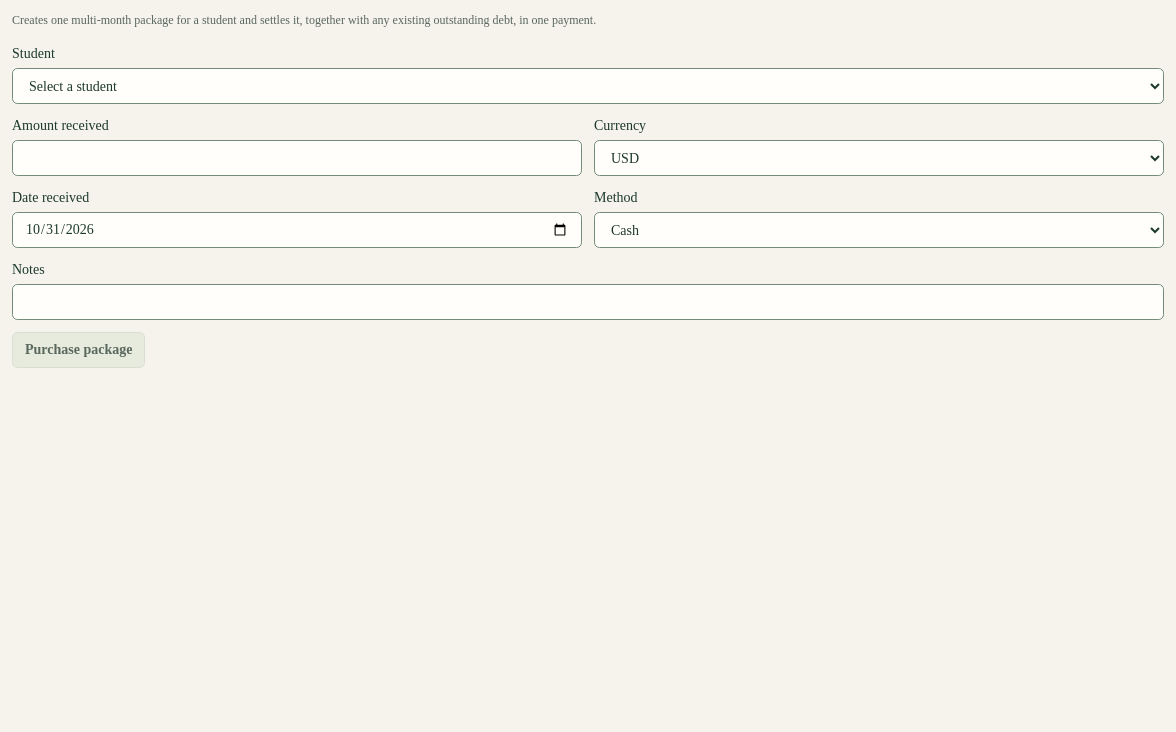
Test: basic render and submission › a fresh package purchase renders success copy and clears the stored attempt
The width and height of the screenshot is (1176, 732).
Select "Ana Soto — Alliance" in the dropdown labelled "Student": point(588, 86) [12, 68, 1164, 104]
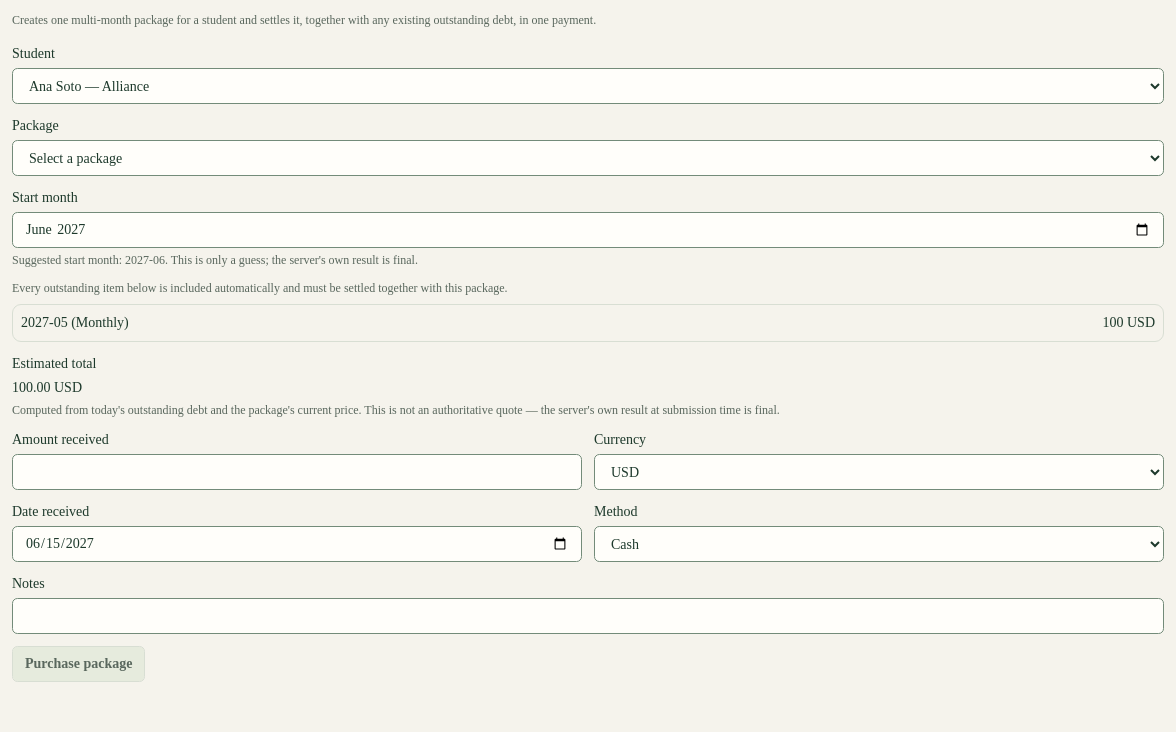
Expected: the dropdown labelled "Package" is shown
Select "3-Month Package — 3 months, 270.00 USD" in the dropdown labelled "Package": point(588, 158) [12, 140, 1164, 176]
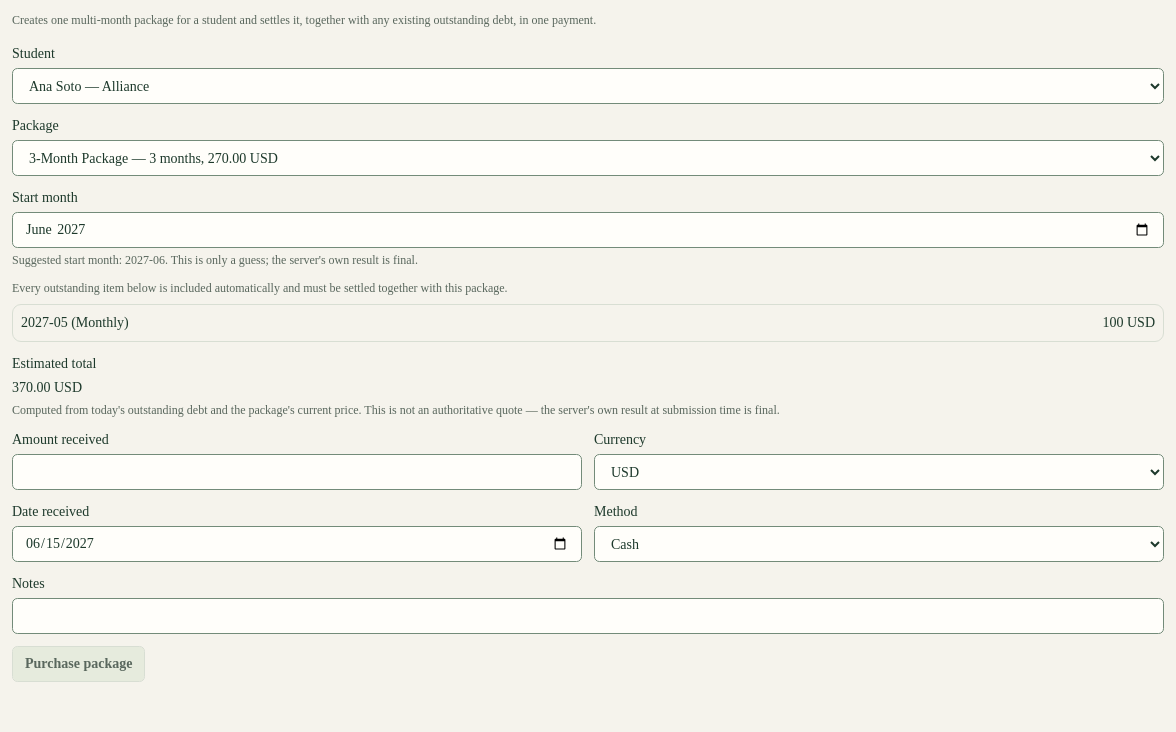
In the field labelled "Amount received": point(297, 472) [12, 454, 582, 490], type "370.00"
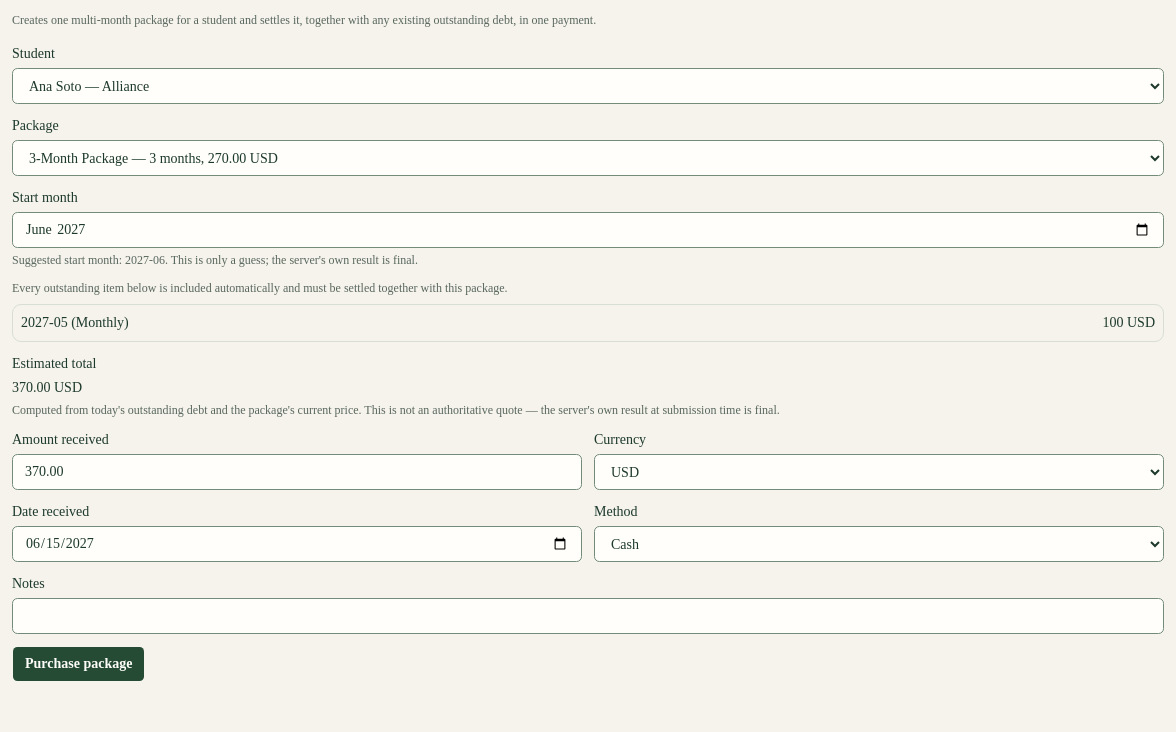
Click the button "Purchase package": point(79, 664) [12, 646, 146, 682]
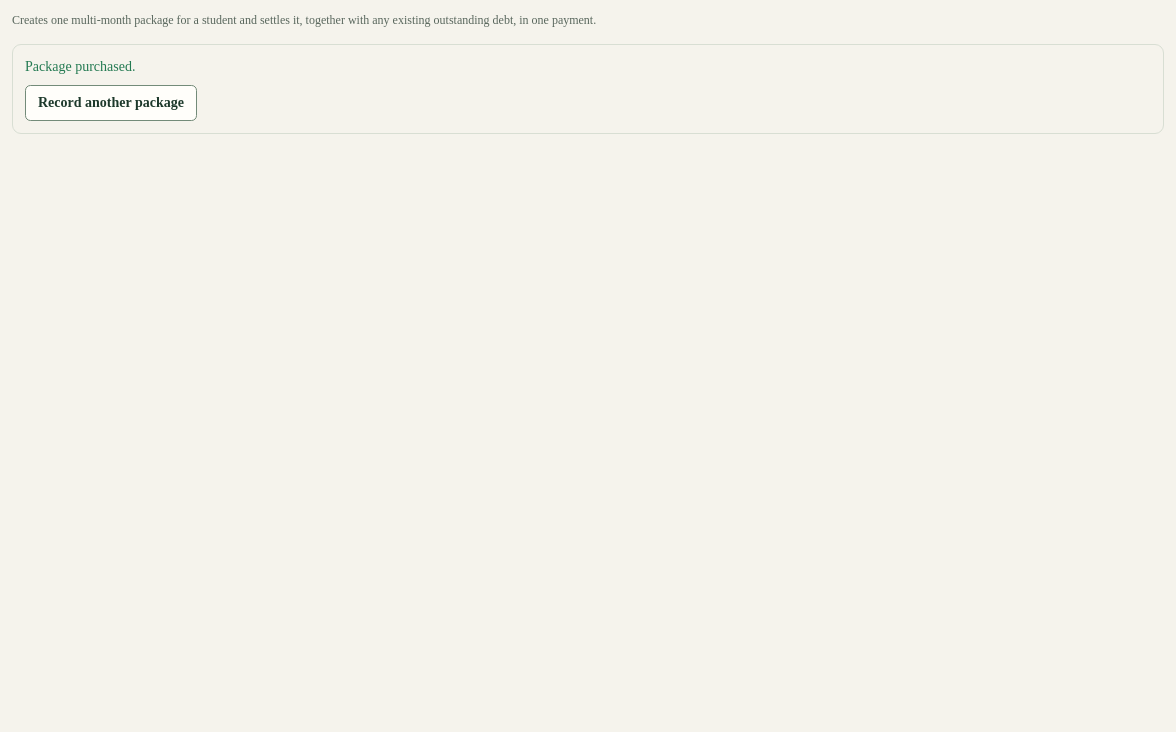
Expected: the text "Package purchased." is shown, [25, 59, 135, 74]
